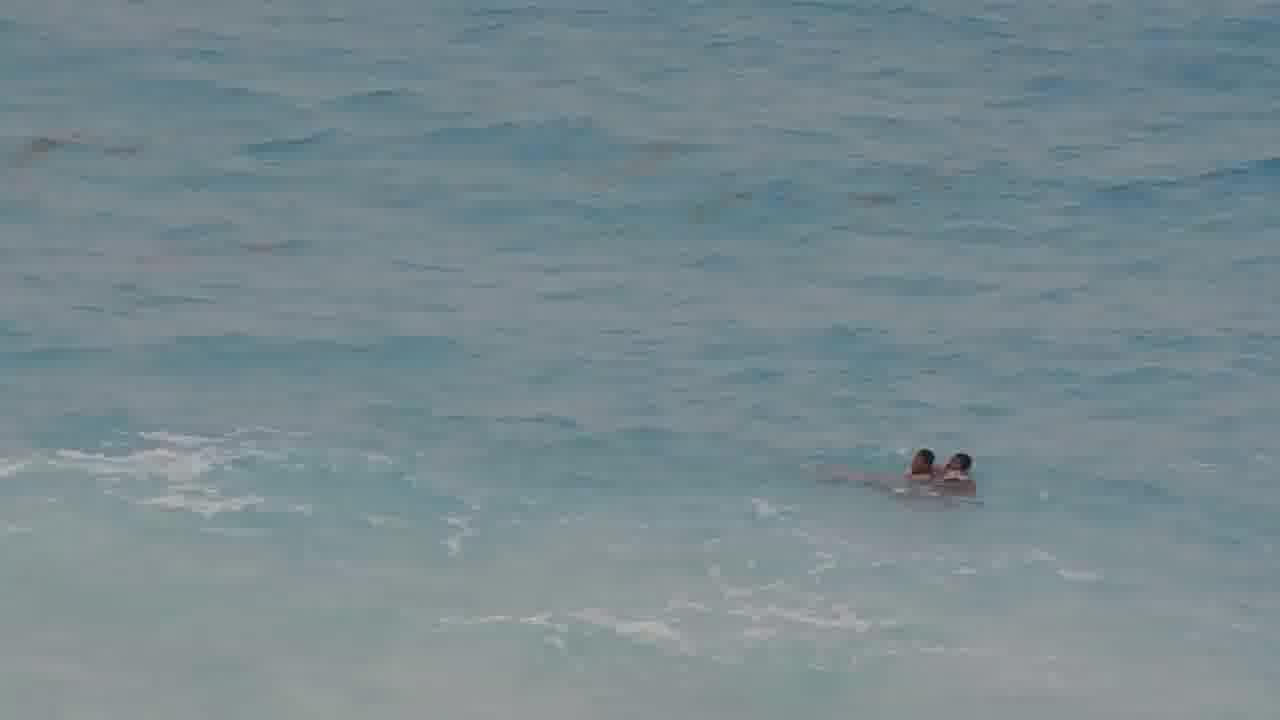swimmer: (935, 437, 981, 502), (902, 435, 928, 486)
